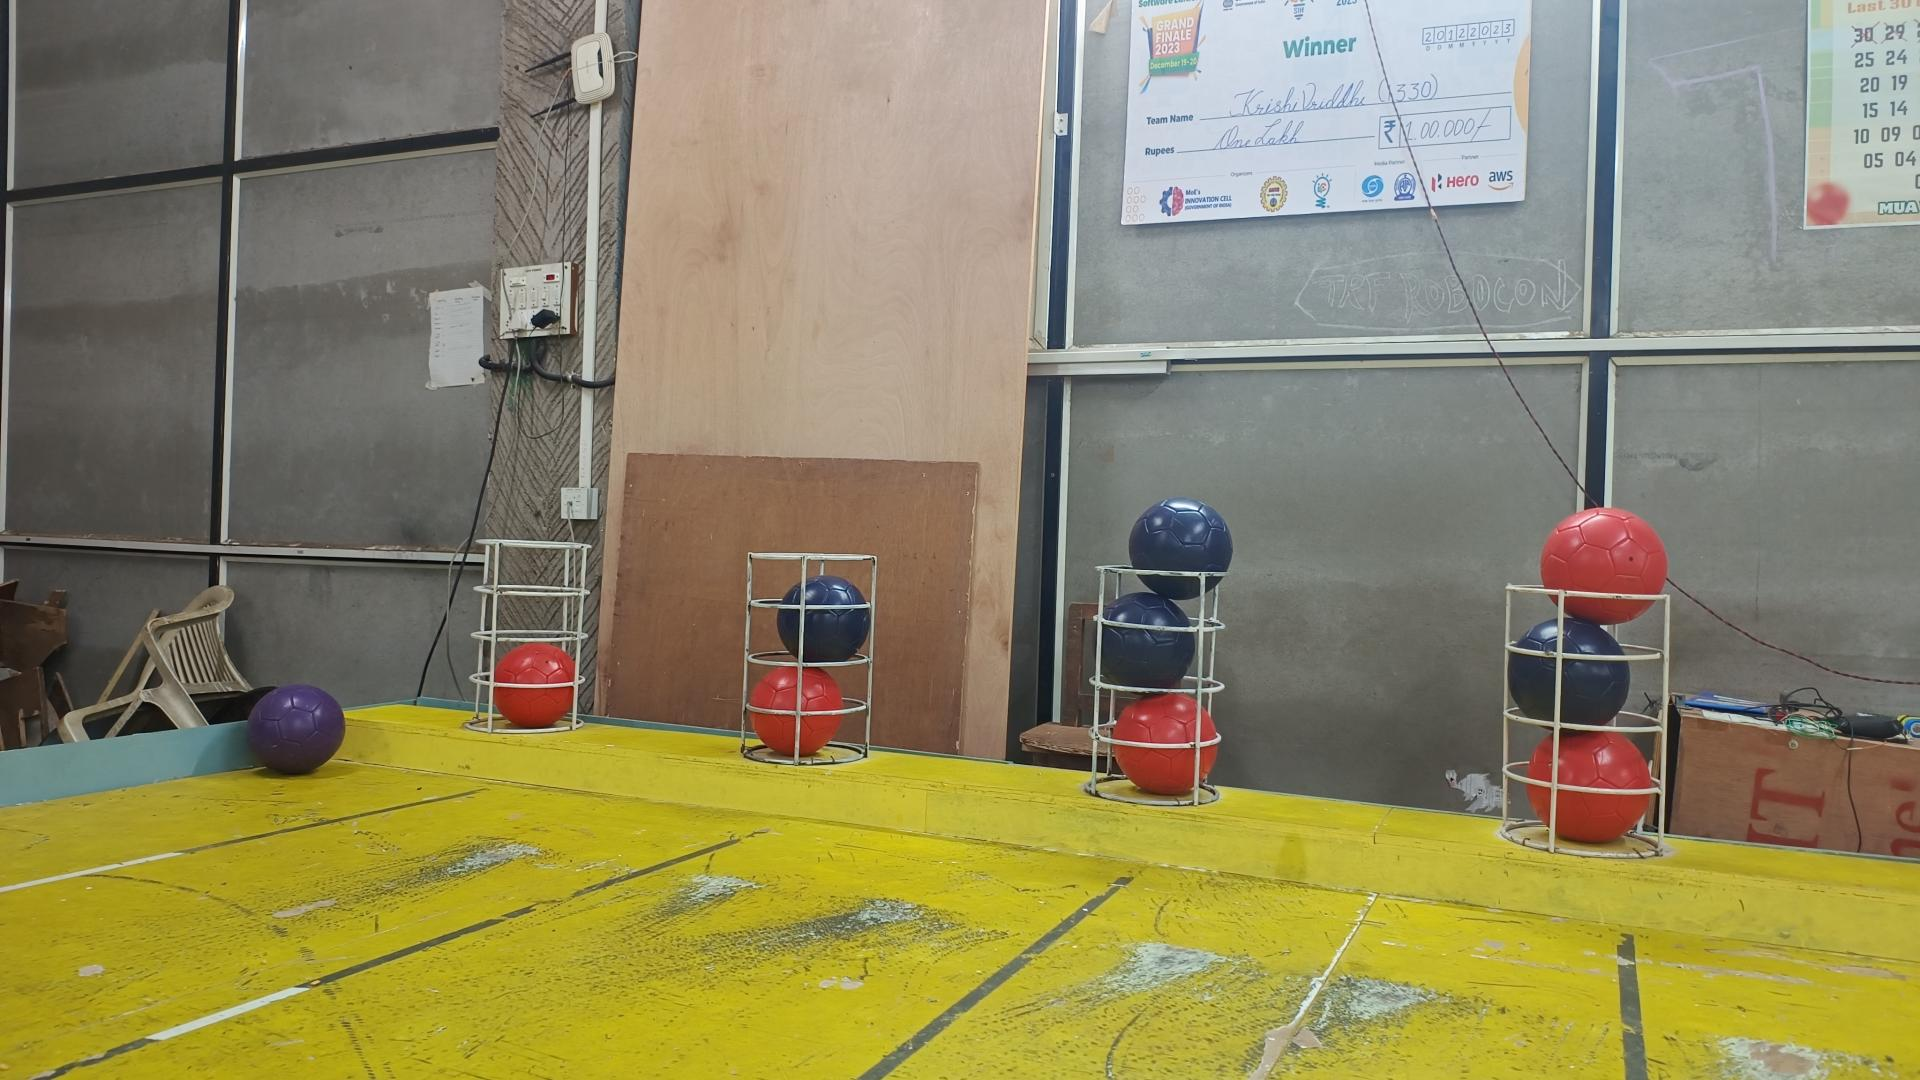dhoka: (1507, 615, 1631, 728), (1129, 498, 1234, 600), (1088, 592, 1196, 690), (777, 574, 870, 663)
laale: (1542, 506, 1668, 626), (1526, 732, 1654, 844), (1114, 694, 1218, 795), (750, 667, 844, 757), (495, 641, 578, 728)
